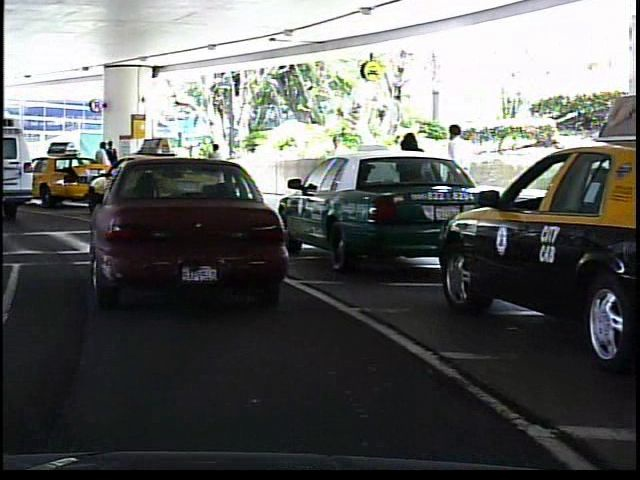person: (438, 117, 484, 230), (393, 125, 430, 230), (321, 127, 349, 205), (203, 138, 227, 190), (92, 141, 110, 194), (105, 137, 120, 193)
